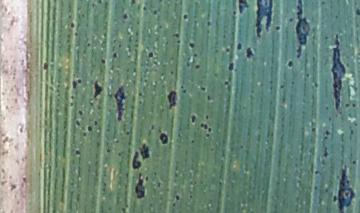tarspot: (326, 34, 351, 112), (287, 1, 315, 60), (332, 163, 357, 213), (251, 1, 275, 41), (111, 81, 127, 125), (91, 74, 105, 105), (133, 174, 147, 201), (163, 88, 180, 110), (156, 127, 172, 150), (130, 148, 144, 172), (138, 140, 153, 162), (233, 1, 250, 16), (39, 58, 53, 76), (242, 46, 260, 60), (143, 48, 159, 62), (199, 122, 214, 135), (234, 40, 246, 53), (225, 58, 236, 72), (71, 146, 83, 158), (84, 123, 96, 135), (272, 21, 284, 33), (179, 12, 192, 23), (189, 113, 199, 127), (321, 146, 331, 160), (66, 20, 78, 31), (186, 39, 197, 51), (284, 58, 295, 70), (110, 50, 120, 63), (199, 82, 209, 95), (223, 44, 233, 57), (71, 77, 79, 93), (180, 85, 191, 96), (221, 77, 233, 87), (312, 167, 321, 180), (278, 81, 287, 94), (172, 31, 183, 41), (78, 109, 87, 121), (121, 11, 130, 23), (205, 17, 214, 29), (92, 1, 107, 8), (136, 85, 143, 100), (322, 127, 332, 137), (308, 125, 318, 135), (73, 118, 82, 129), (192, 63, 203, 72), (77, 75, 84, 89), (287, 14, 295, 26), (172, 193, 182, 202), (354, 5, 360, 20), (119, 204, 129, 213), (99, 56, 107, 67), (68, 100, 76, 109), (105, 144, 111, 156), (127, 1, 137, 8), (141, 5, 151, 12), (332, 195, 337, 203)
